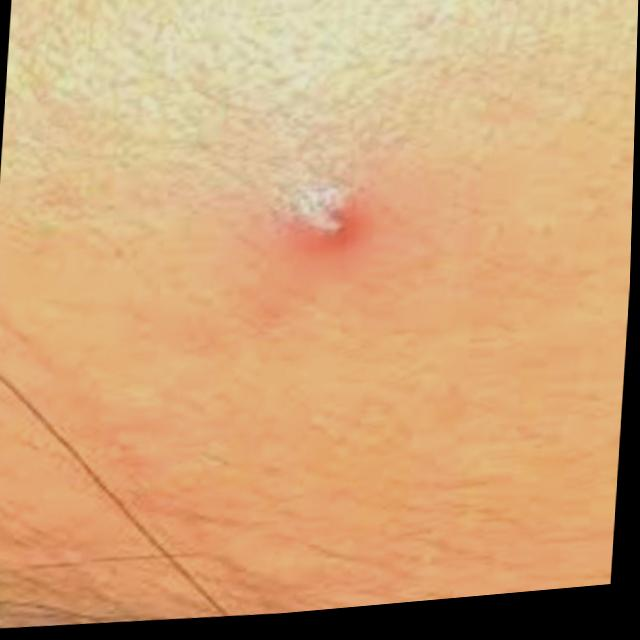pustule: (281, 180, 395, 260)
